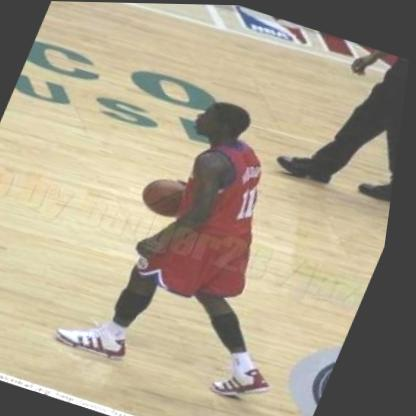basketball: (132, 164, 207, 228)
